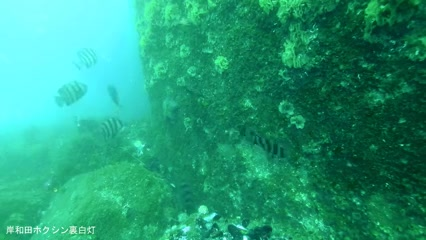ishidai: (53, 79, 92, 108), (93, 118, 124, 143), (71, 46, 104, 69)
